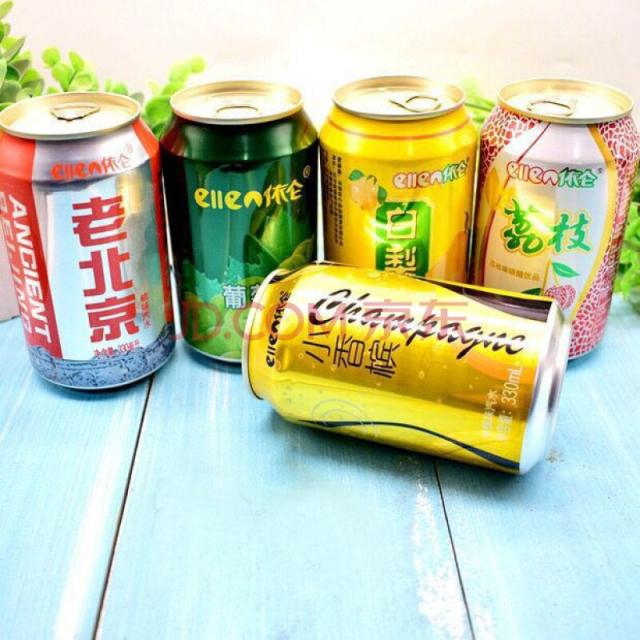can: (242, 259, 576, 479), (0, 93, 178, 404), (161, 74, 326, 378), (465, 73, 640, 353), (318, 70, 485, 290)
